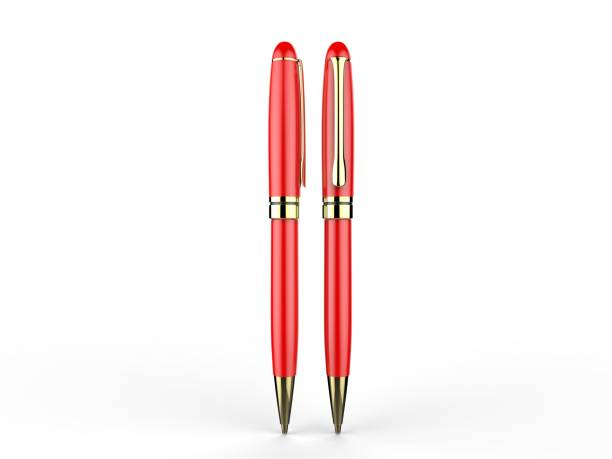pen: (261, 35, 313, 439), (318, 33, 366, 439)
